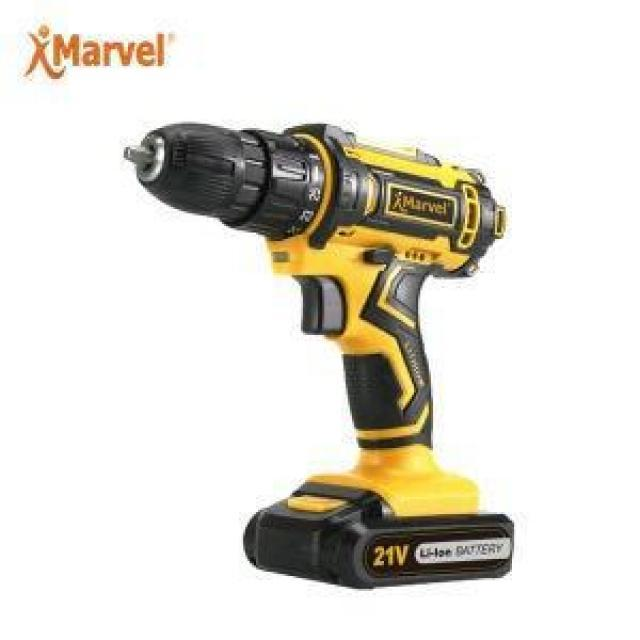drill: (122, 124, 516, 591)
